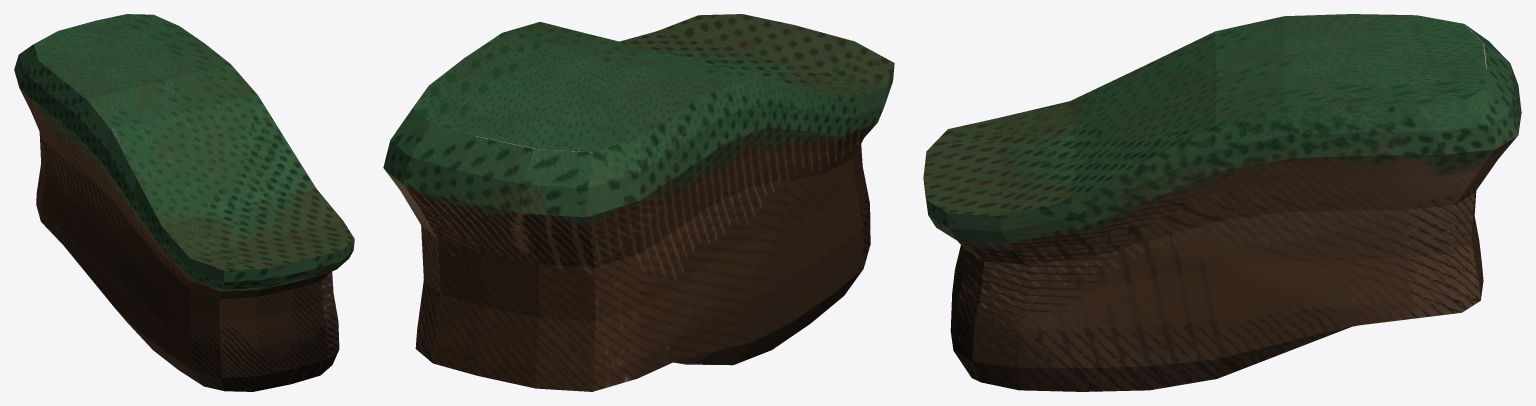
Rendered from PLATFORM 3D 2.fbx.
The picture shows the model from 3 angles, left to right: view 1: azimuth 30°, elevation 25°; view 2: azimuth 150°, elevation 25°; view 3: azimuth 270°, elevation 25°; orthographic projection. The views are drawn at different scales.
Parts seen in each view (by area): view 1: Cube.003; view 2: Cube.003; view 3: Cube.003.
Boxes of the visible parts, <box> form: Cube.003: <box>14,14,354,391</box>; Cube.003: <box>383,14,894,391</box>; Cube.003: <box>923,14,1521,391</box>.
Size of the model in its own units: 531 by 720 by 1282.
Materials: 1 (1 with a texture image).
